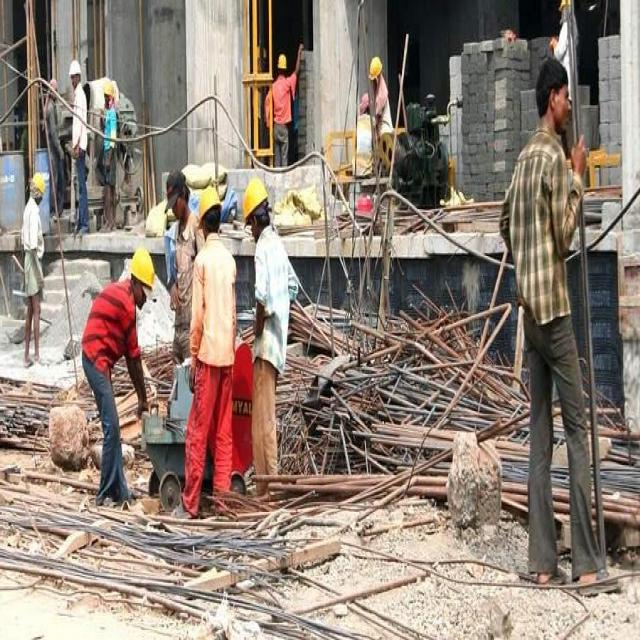Reflective-Jacket: (80, 279, 135, 374)
Safety-Helmet: (129, 243, 156, 289), (242, 175, 269, 220), (198, 182, 222, 216), (368, 54, 384, 81), (32, 172, 46, 195), (69, 58, 82, 80), (102, 80, 115, 100), (276, 51, 289, 71)
